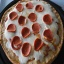pepperoni: (10, 34, 22, 52), (21, 41, 32, 58), (42, 26, 55, 40), (32, 37, 44, 52), (30, 22, 42, 36), (17, 14, 28, 28), (26, 12, 38, 24), (4, 23, 17, 34), (13, 3, 27, 13), (9, 9, 20, 21), (41, 15, 54, 24), (21, 27, 31, 38), (34, 4, 45, 13), (25, 2, 34, 11)
pizza: (1, 1, 63, 64)
